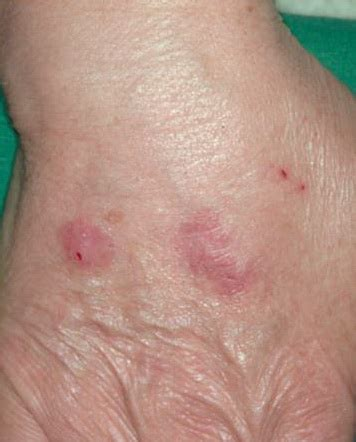Bowen: (173, 210, 254, 295), (55, 218, 126, 278)
